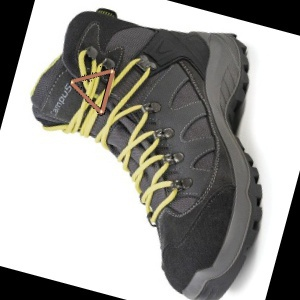triangle: (67, 66, 117, 118)
